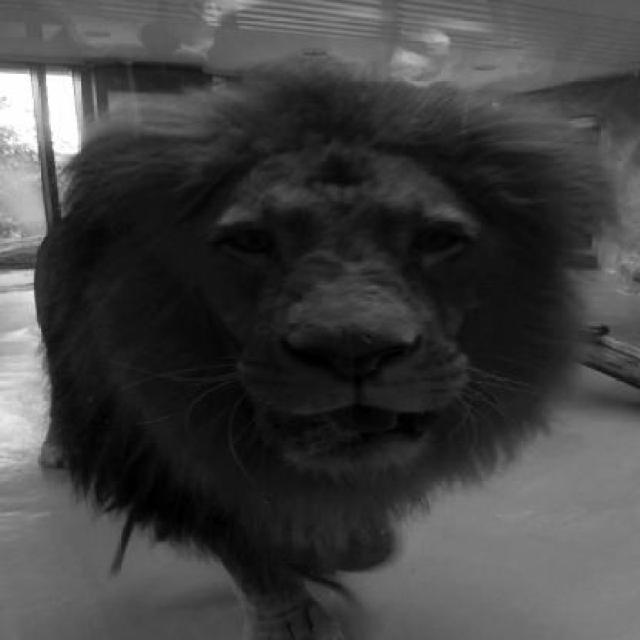Lion: (43, 64, 622, 578)
